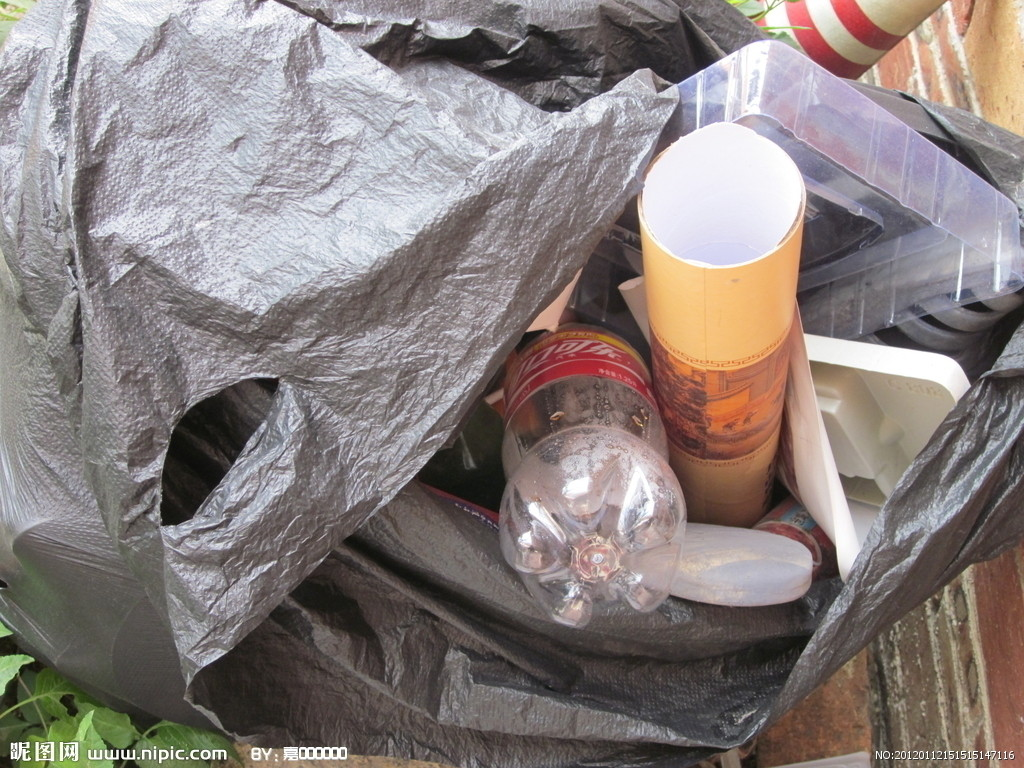garbage: (460, 117, 1006, 616)
